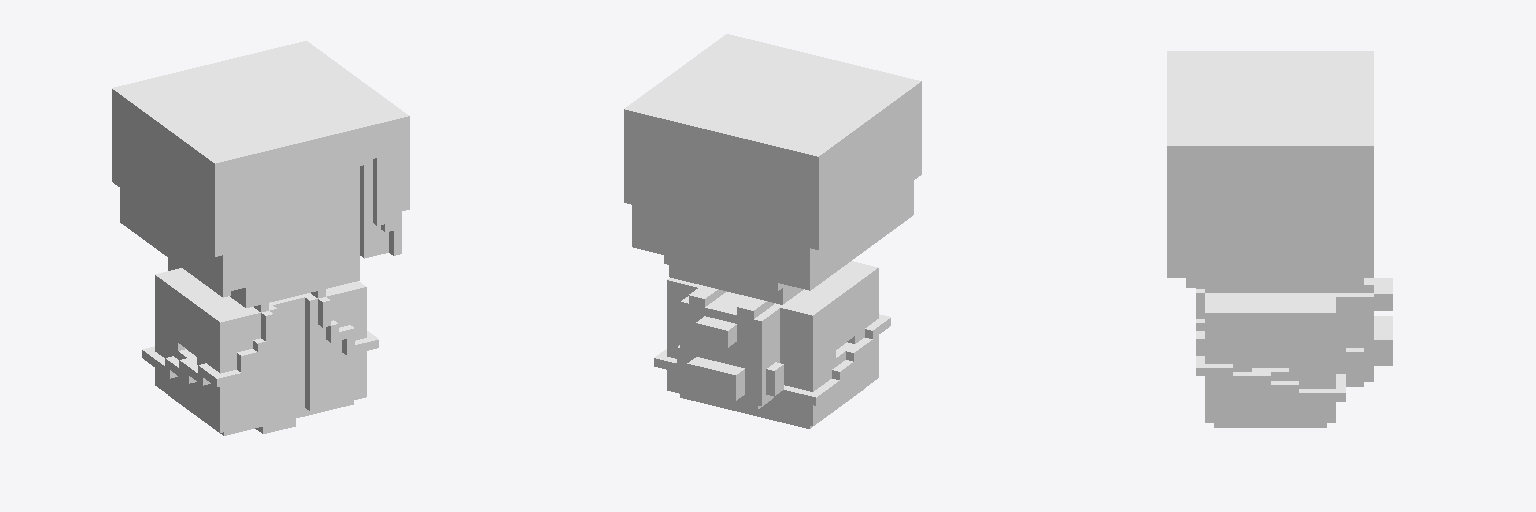
File: Timmy_Body_Head.obj
3 views of the same model, side by side, from view 1: azimuth 30°, elevation 25°; view 2: azimuth 150°, elevation 25°; view 3: azimuth 270°, elevation 25° (orthographic).
Parts seen in each view (by area): view 1: object 1; view 2: object 1; view 3: object 1.
Boxes of the visible parts, x1,y1,x2,y2 form: object 1: [112, 41, 409, 435]; object 1: [624, 34, 921, 428]; object 1: [1167, 51, 1392, 427].
Size of the model in its own units: 2.4 by 3.7 by 2.4.